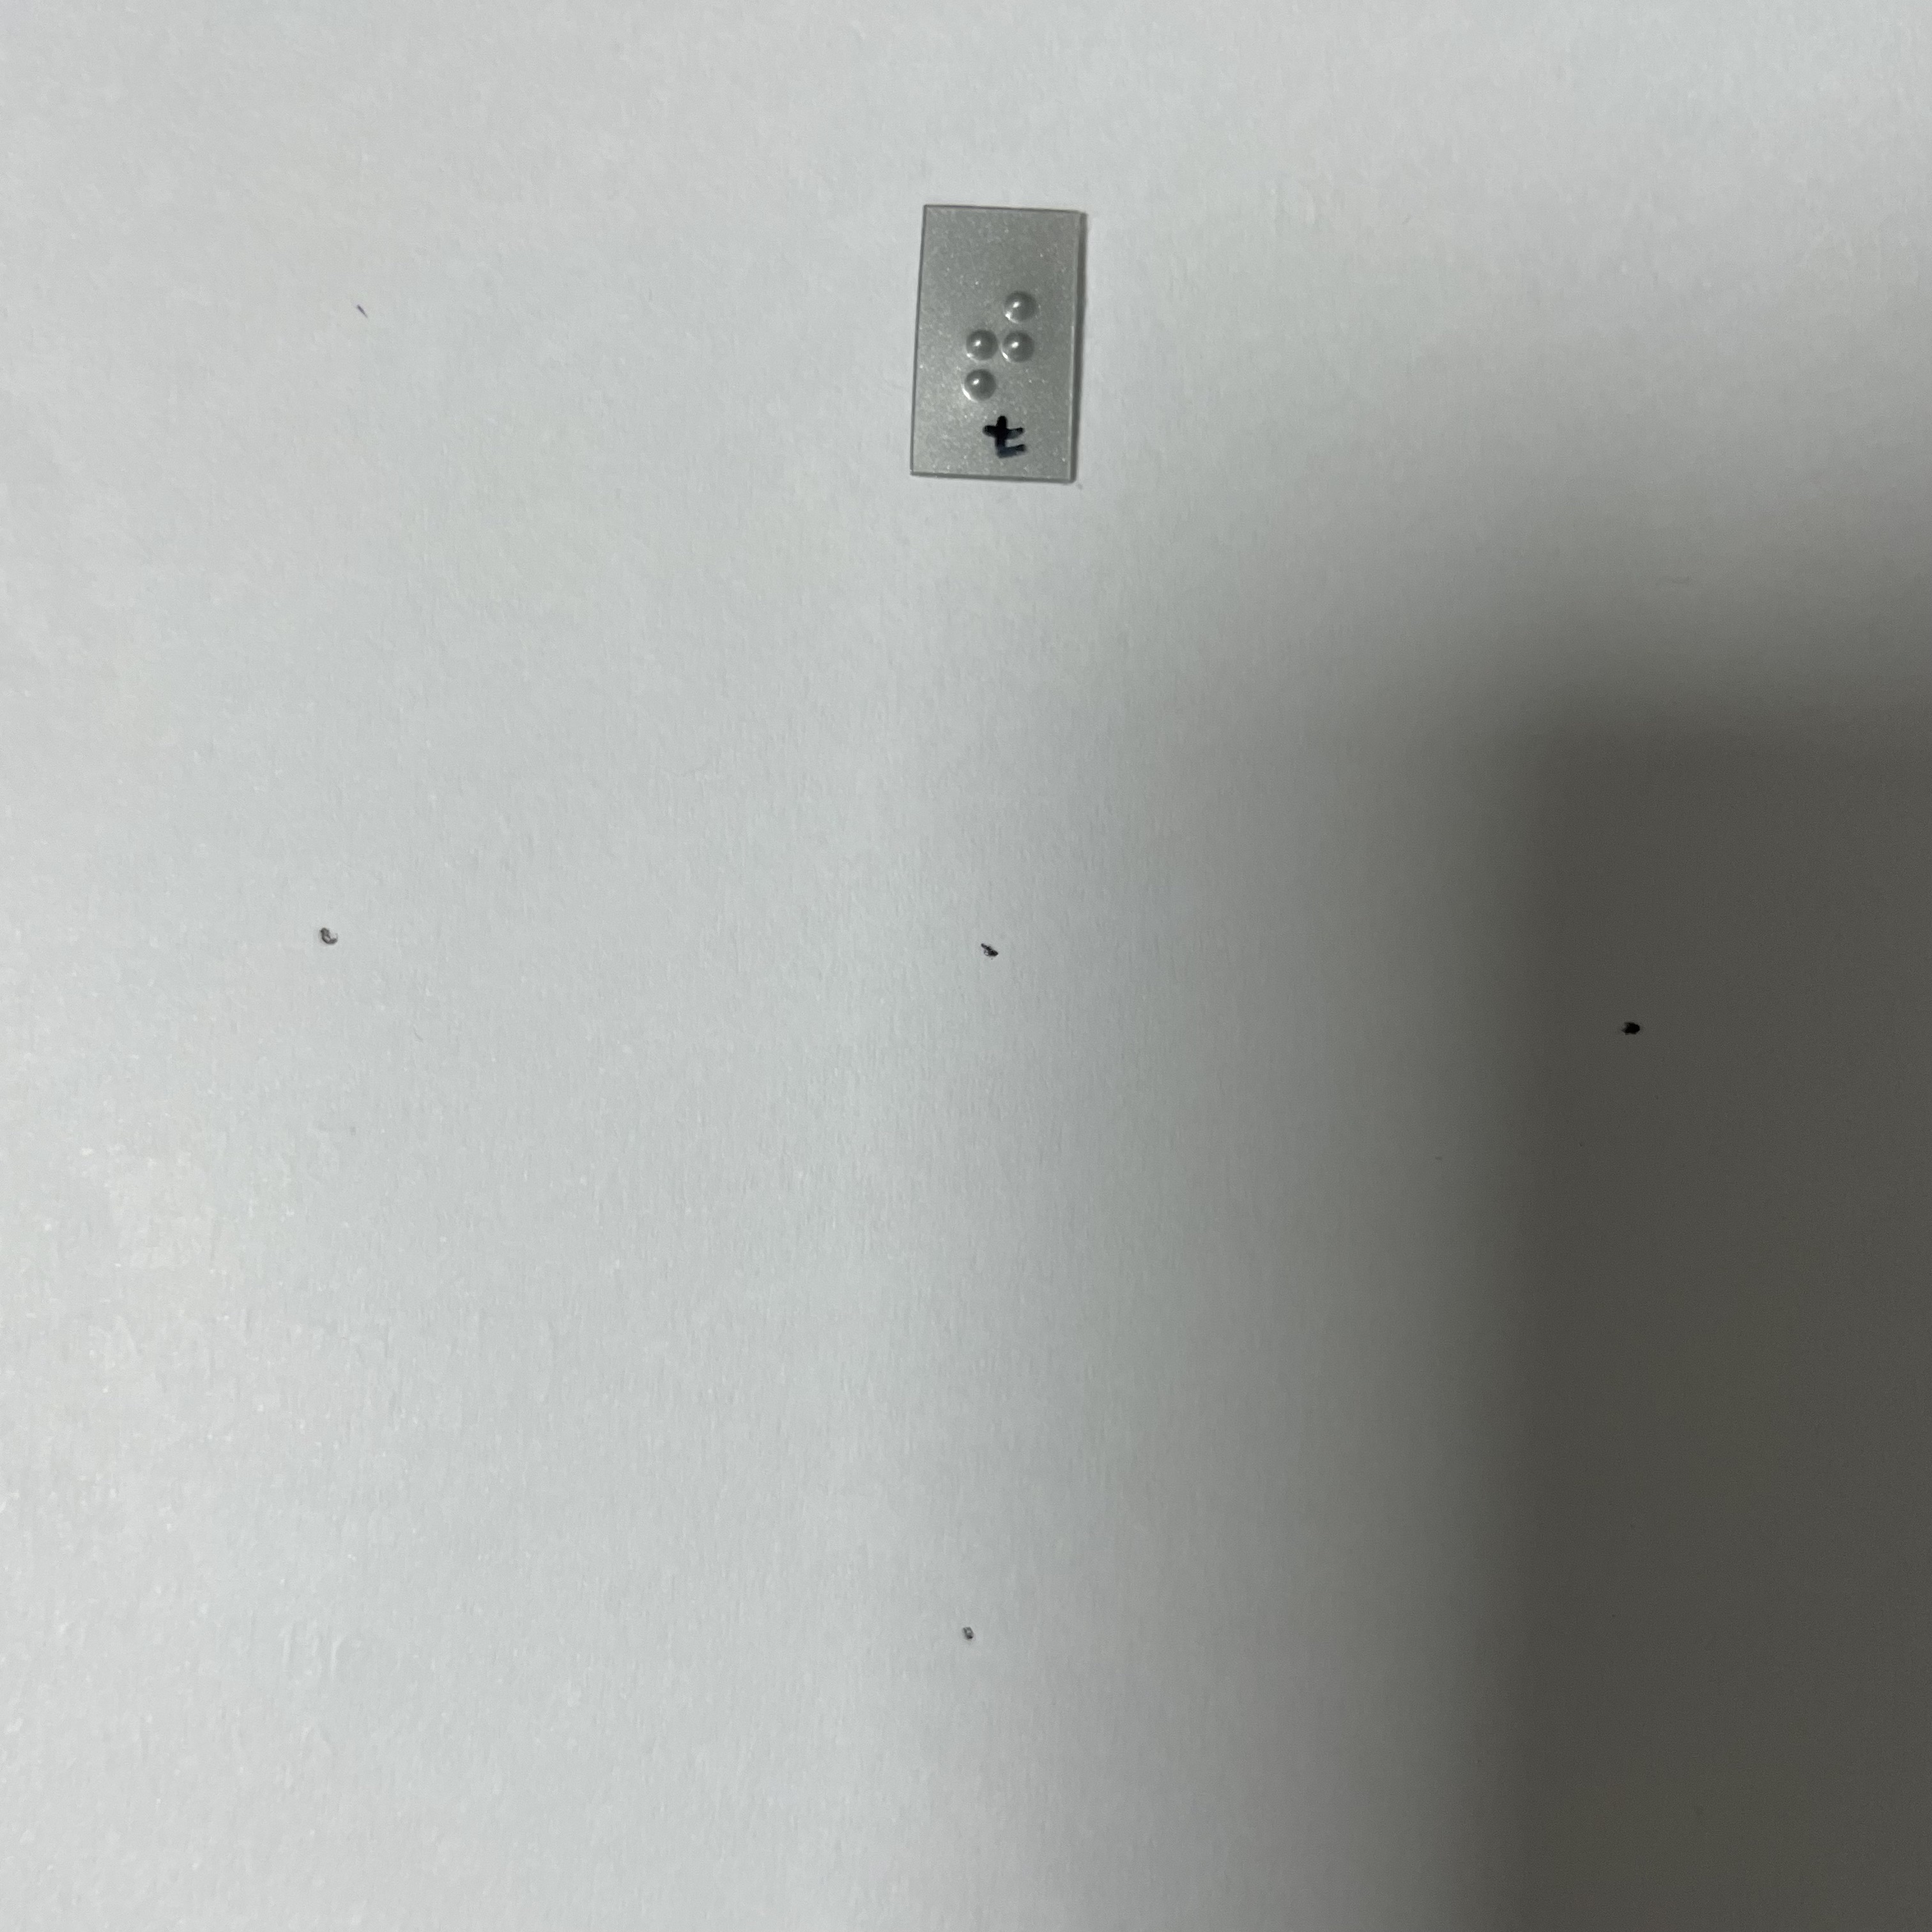t: (954, 277, 1051, 412)
